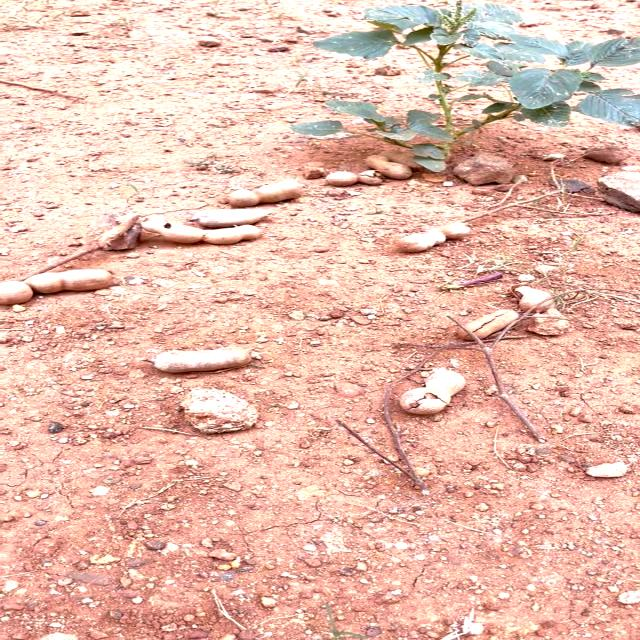tamarind: (0, 269, 126, 302), (515, 286, 579, 335), (133, 220, 268, 242), (396, 222, 476, 254), (455, 306, 515, 343), (216, 182, 302, 206), (371, 153, 418, 183), (327, 170, 384, 188)
